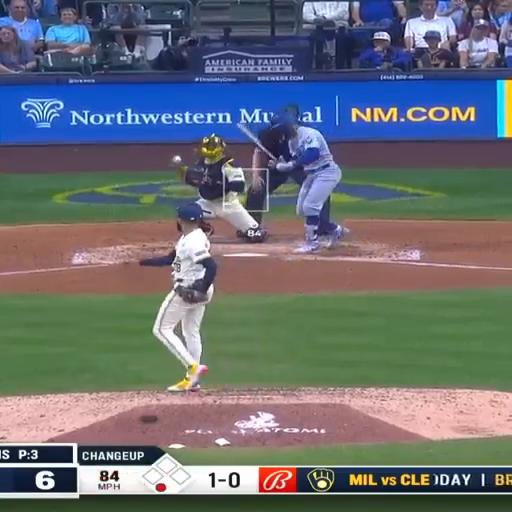bat: (237, 123, 276, 161)
